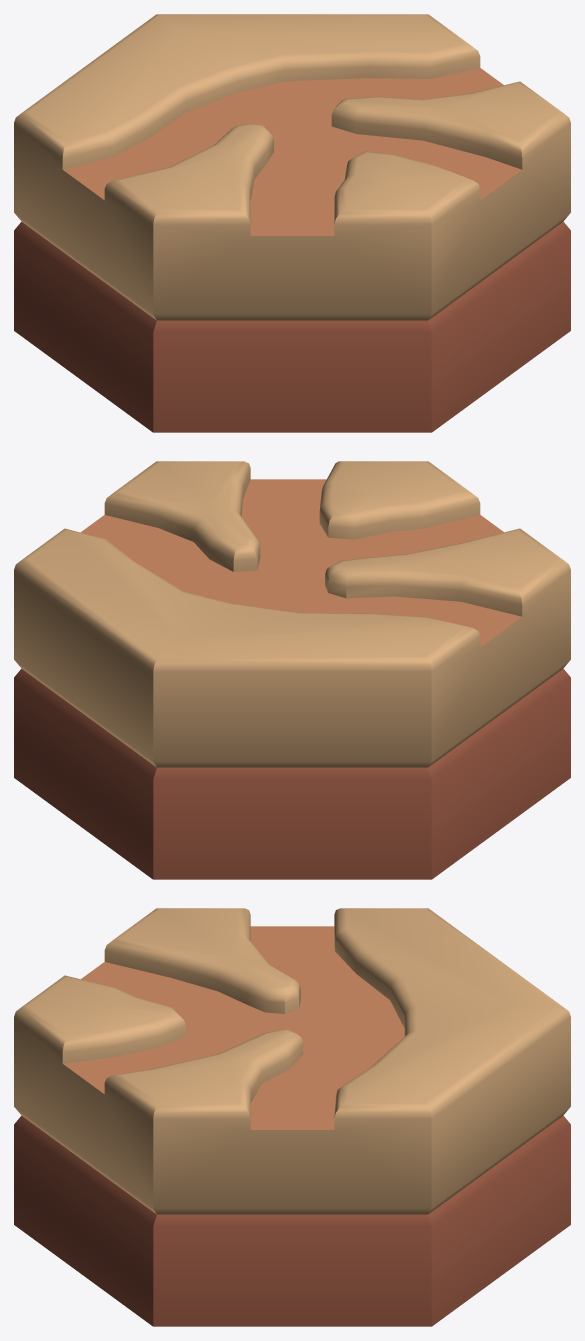
The model's file is hex_sand_roadK_detail.glb.
The picture shows the model from 3 angles, top to bottom: view 1: azimuth 30°, elevation 25°; view 2: azimuth 150°, elevation 25°; view 3: azimuth 270°, elevation 25°; orthographic projection.
Parts seen in each view (by area): view 1: hex_sand_roadK_detail; view 2: hex_sand_roadK_detail; view 3: hex_sand_roadK_detail.
Boxes of the visible parts, x1,y1,x2,y2 form: hex_sand_roadK_detail: [14, 14, 570, 432]; hex_sand_roadK_detail: [14, 461, 570, 879]; hex_sand_roadK_detail: [14, 908, 570, 1326].
Size of the model in its own units: 3.82 by 1.91 by 4.41.
